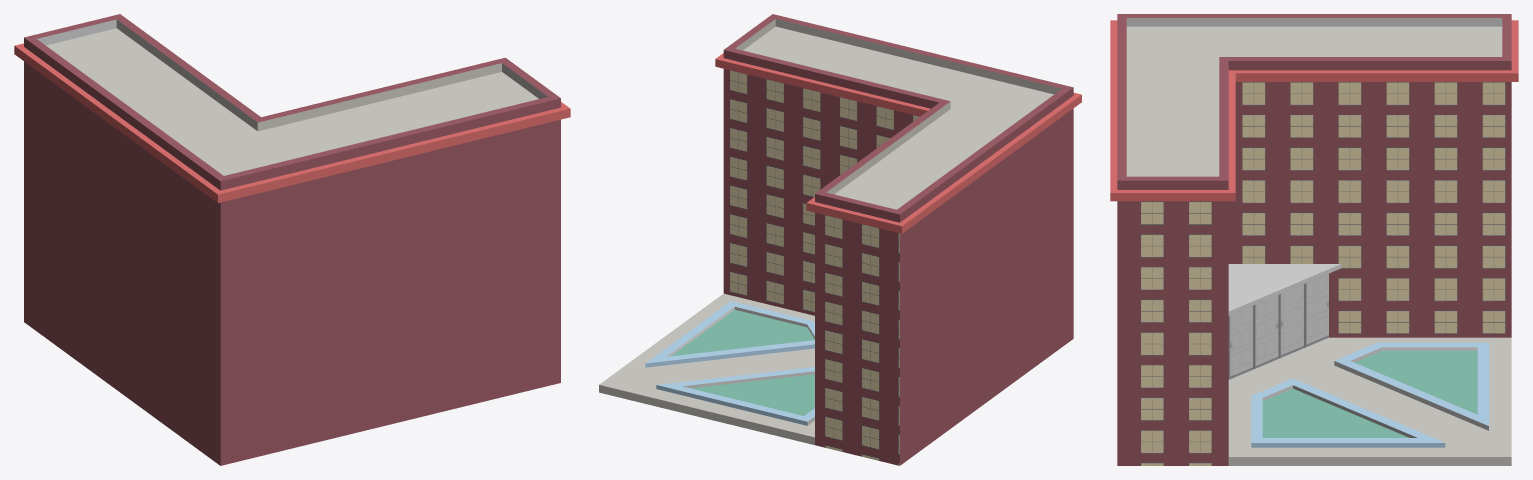
Rendered from buildings_10.dae.
3 renders of one model, left to right at view 1: azimuth 30°, elevation 25°; view 2: azimuth 150°, elevation 25°; view 3: azimuth 270°, elevation 25°, orthographic. The views are drawn at different scales.
Visible parts, largest first — view 1: group_0 (×5); view 2: group_0 (×10); view 3: group_0 (×14).
Boxes of the visible parts, x1,y1,x2,y2 form: group_0 (×5): (14,14,570,465); group_0 (×10): (599,14,1081,465); group_0 (×14): (1110,14,1518,465).
Bounding box in the file's own units: 134 × 134 × 103.
Materials: 11 (10 with a texture image).
